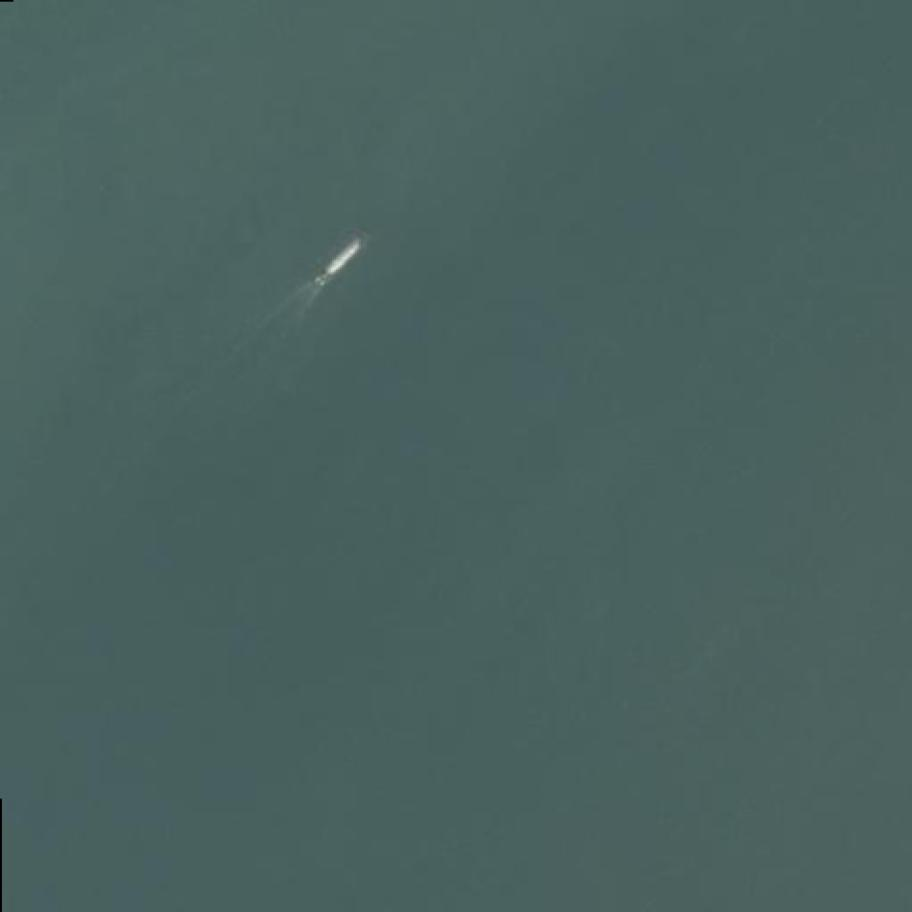ship: (311, 227, 374, 290)
